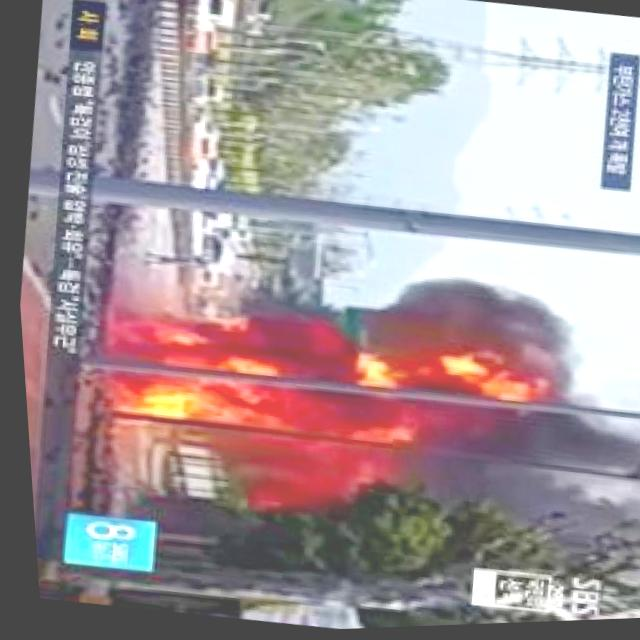Fire: (89, 298, 405, 507), (404, 351, 531, 414)
Smoke: (344, 265, 569, 376)
